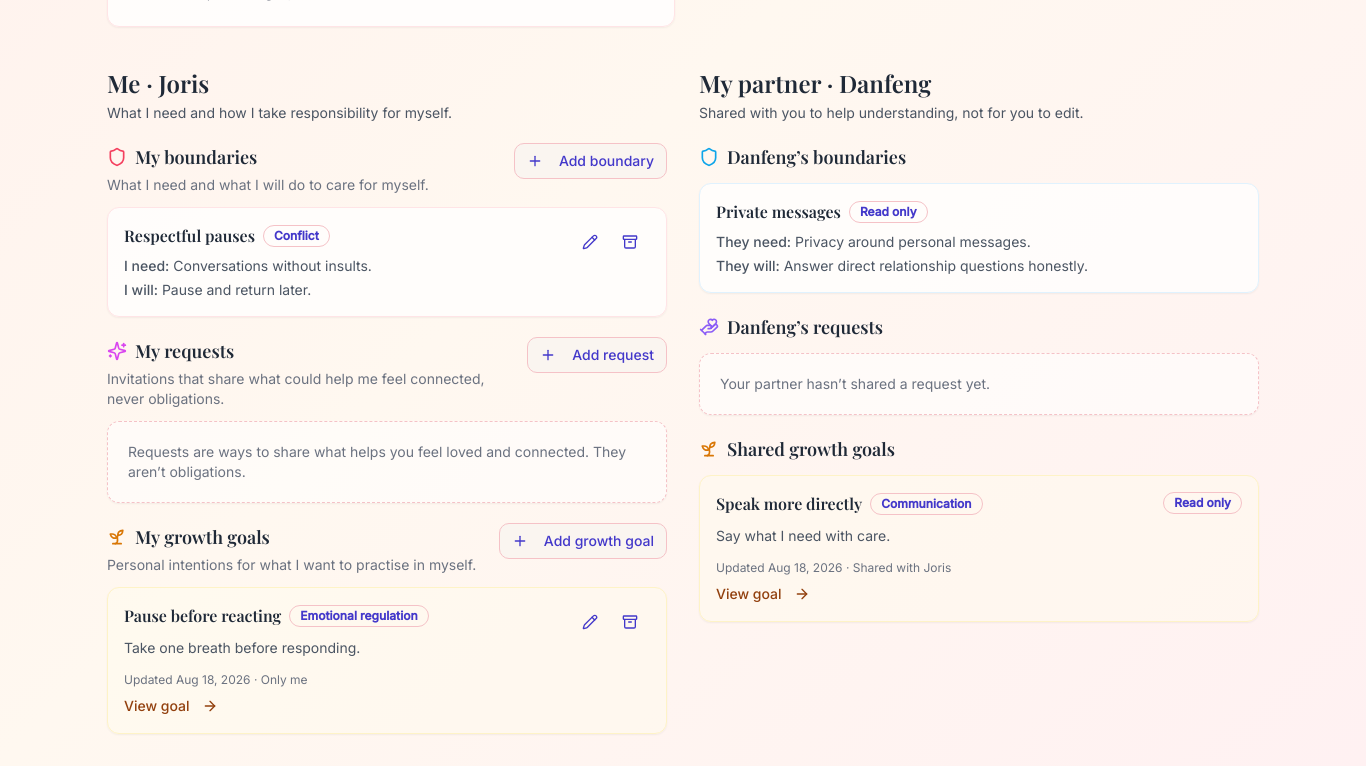
Test: RelationshipCareOverviewPage › defaults a new personal growth goal to Only me
(page scrolled)
What coordinates should you click on to do the following:
click the button "Add growth goal"
I would click on:
 (583, 541)
Its box is [499,523,667,559].
(page scrolled)
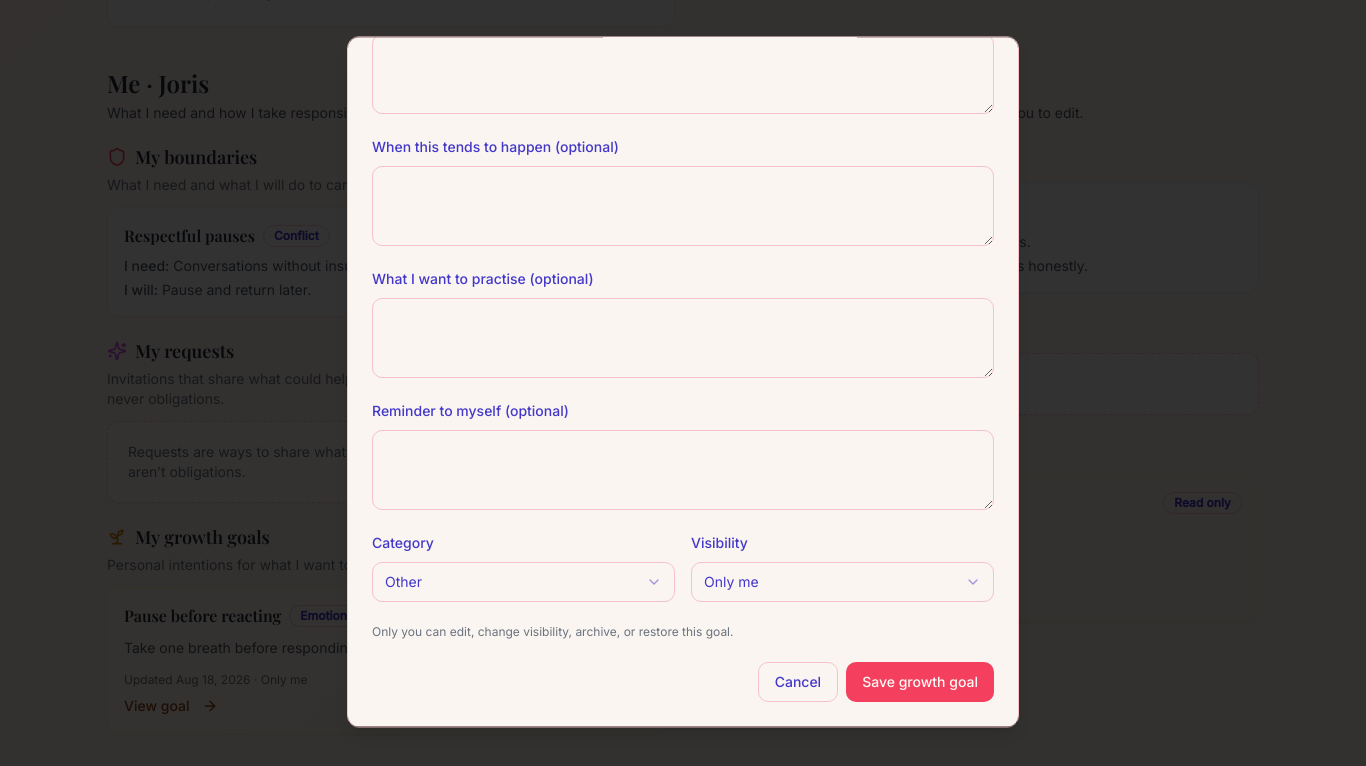
Expected: the dialog "Add a personal growth goal" is shown, [347,36,1019,728]
Expected: the dropdown named "Visibility" reads "Only me", [691,562,994,602]
